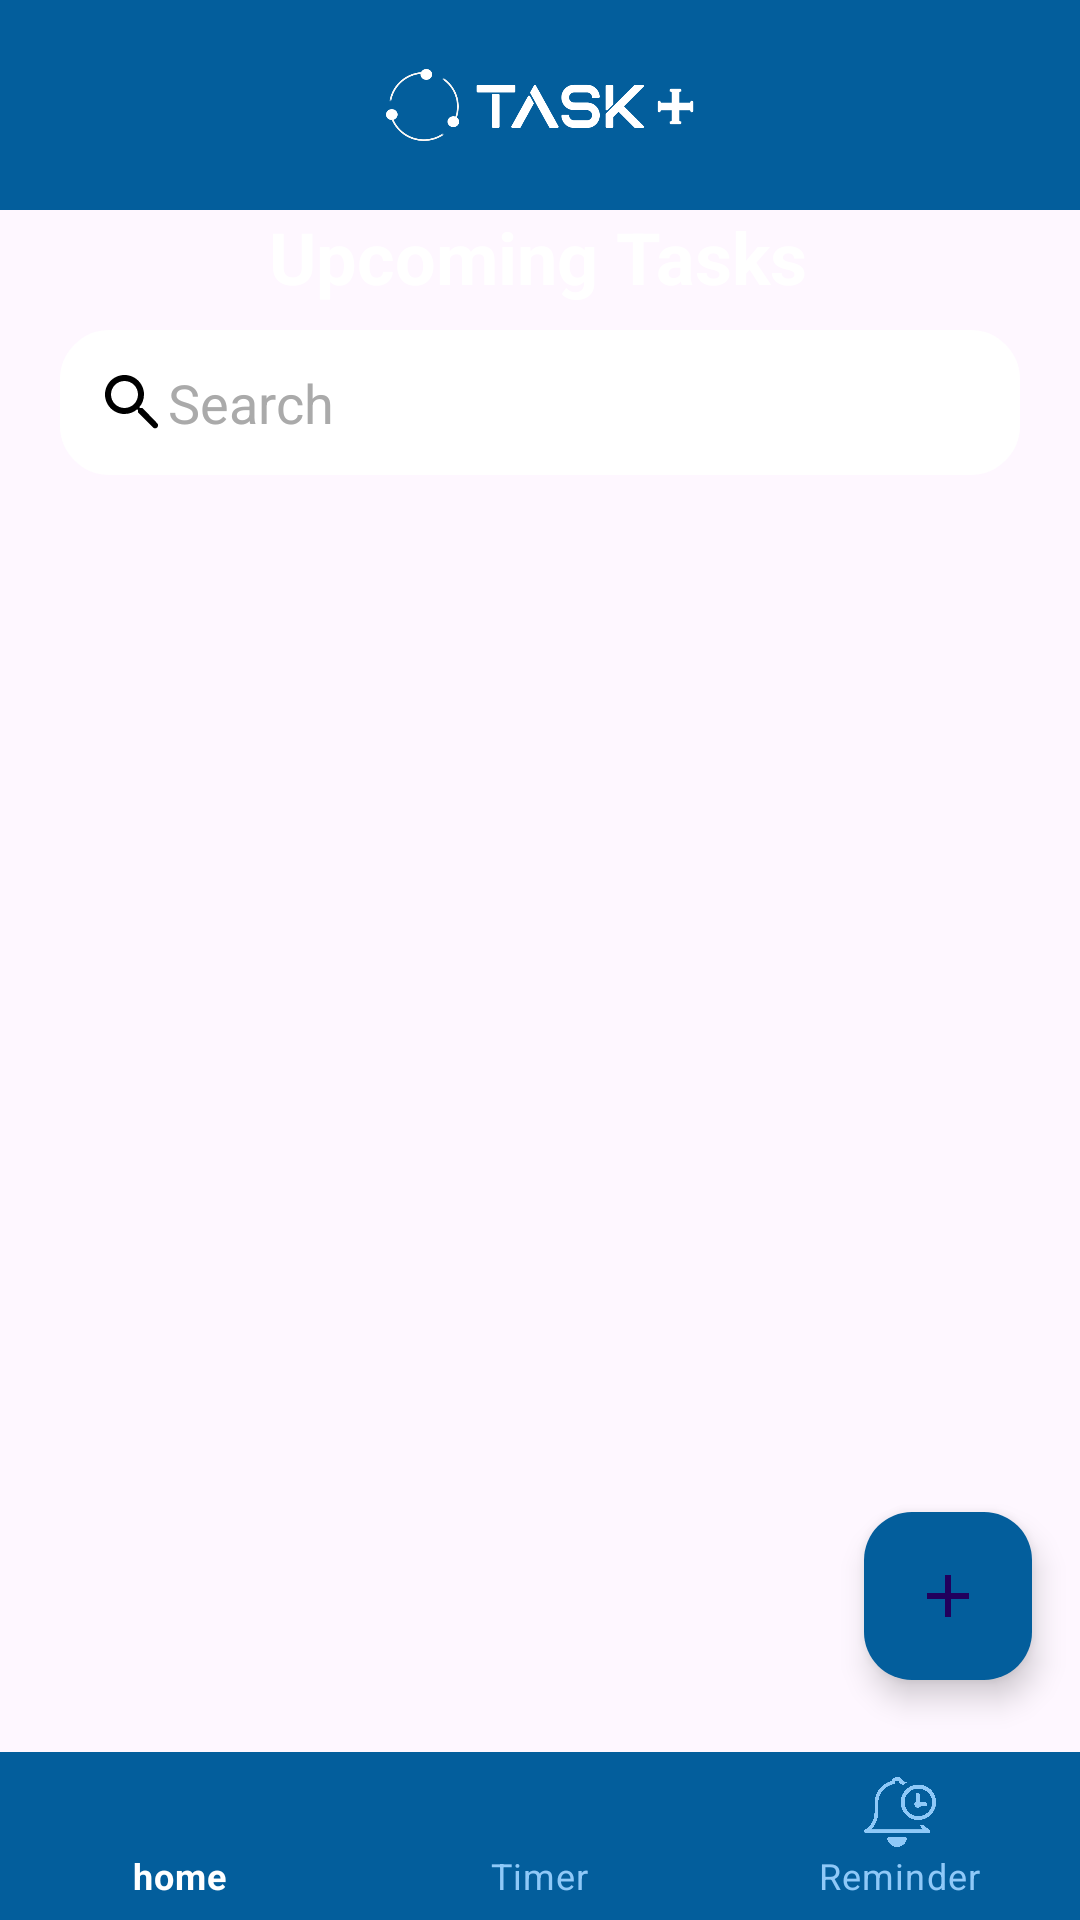

Named icons in this screenshot (1080 × 1920) and their centers, [x,y]:
Add Task: [948,1596]
